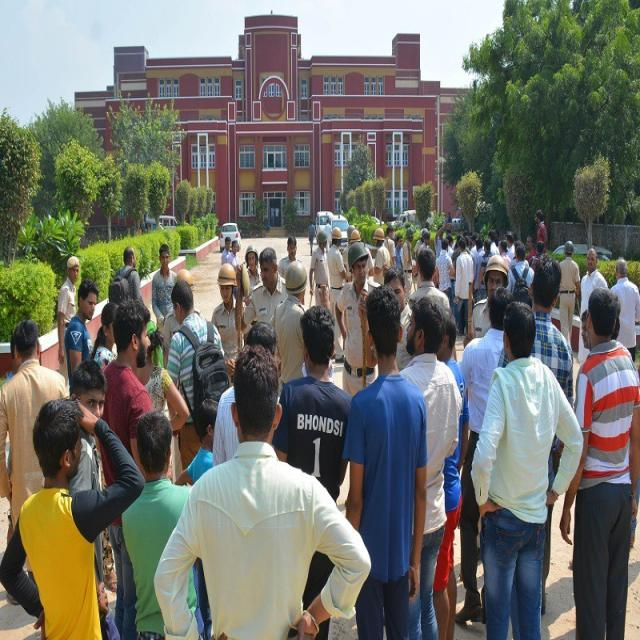body: (150, 341, 374, 640), (464, 294, 586, 639), (0, 394, 146, 640), (557, 283, 639, 639), (270, 305, 356, 640), (498, 257, 575, 618), (397, 293, 464, 640), (453, 284, 518, 625), (0, 314, 70, 609), (96, 296, 155, 640), (120, 410, 199, 640), (164, 278, 230, 487), (432, 305, 471, 639), (211, 321, 281, 468), (66, 356, 108, 589), (334, 240, 383, 399), (272, 258, 331, 389), (357, 266, 414, 373), (136, 324, 190, 433), (232, 245, 290, 334), (63, 278, 99, 400), (210, 262, 248, 376), (173, 396, 219, 488), (93, 452, 120, 595), (470, 252, 511, 340), (56, 255, 81, 397), (608, 257, 640, 365), (326, 225, 350, 364), (557, 239, 582, 353), (406, 247, 451, 310), (151, 242, 179, 335), (628, 354, 640, 553), (578, 246, 610, 320), (452, 236, 475, 337), (106, 244, 142, 304), (505, 242, 535, 311), (89, 302, 118, 369), (308, 228, 331, 307), (3, 432, 20, 524), (435, 240, 455, 317), (220, 235, 241, 302), (348, 228, 375, 280), (1, 330, 25, 384), (371, 226, 391, 288), (277, 234, 303, 280), (472, 238, 489, 304), (475, 239, 495, 293), (242, 243, 262, 296), (436, 208, 467, 239), (402, 227, 414, 305), (382, 223, 397, 278), (414, 219, 434, 258), (494, 225, 517, 253), (341, 222, 356, 257), (535, 209, 549, 246), (264, 202, 280, 232), (580, 308, 590, 353), (447, 238, 460, 270), (467, 230, 485, 252), (530, 239, 547, 262), (306, 218, 316, 256), (394, 233, 404, 270), (323, 218, 333, 255), (612, 313, 622, 340), (150, 210, 159, 233), (434, 237, 442, 262), (401, 206, 410, 224), (141, 202, 146, 232), (486, 229, 496, 241), (384, 207, 389, 223), (516, 237, 522, 248), (332, 208, 341, 215), (465, 237, 468, 252), (306, 219, 310, 228)
